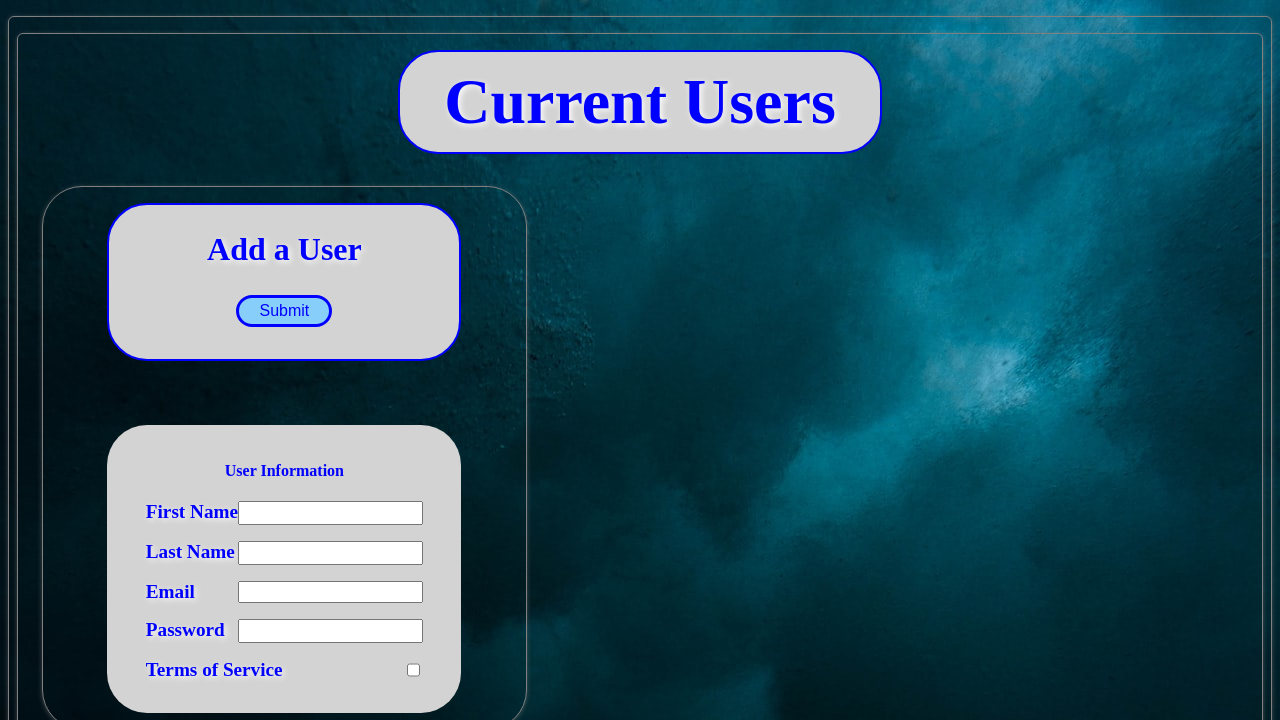
Form validation › validates first name correctly
Expected: the text "First name must be at least three characters long" is not shown
Type "a" into the field named "fName" at (331, 513), box [238,501,423,525]
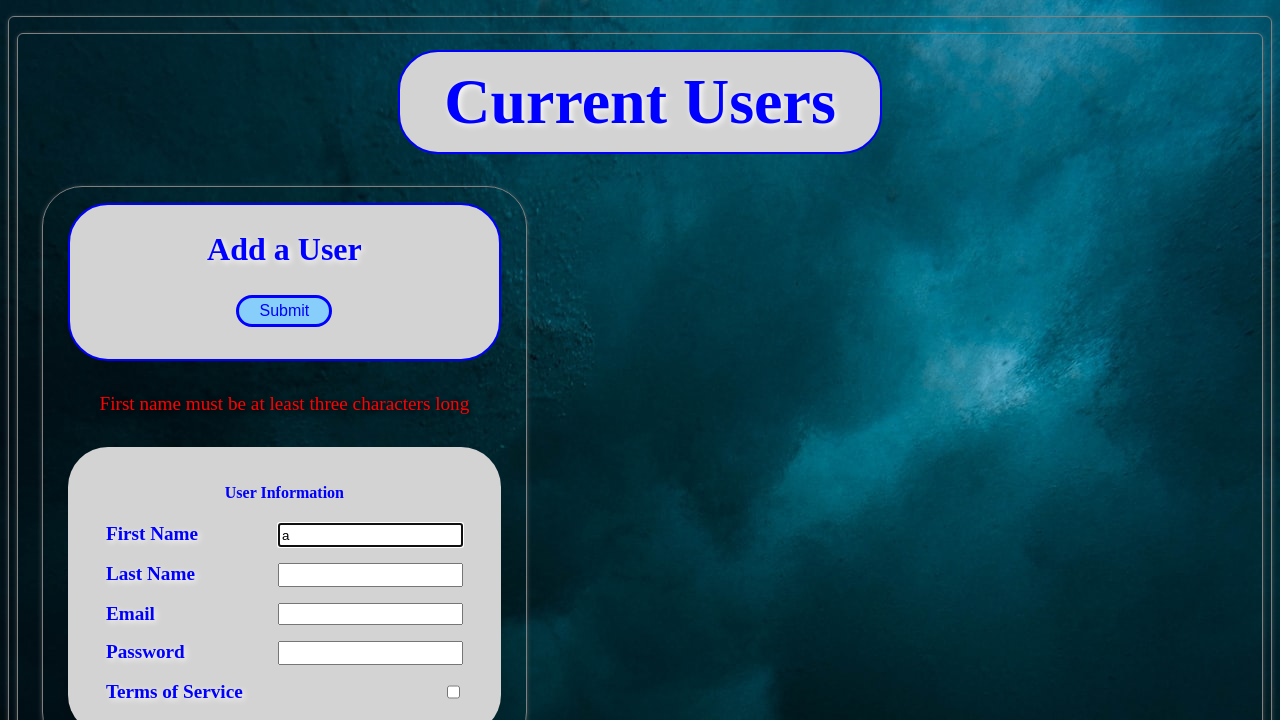
Expected: the text "First name must be at least three characters long" is shown, [100,393,469,415]
Type "b" into the field named "fName" at (371, 535), box [278,523,463,547]
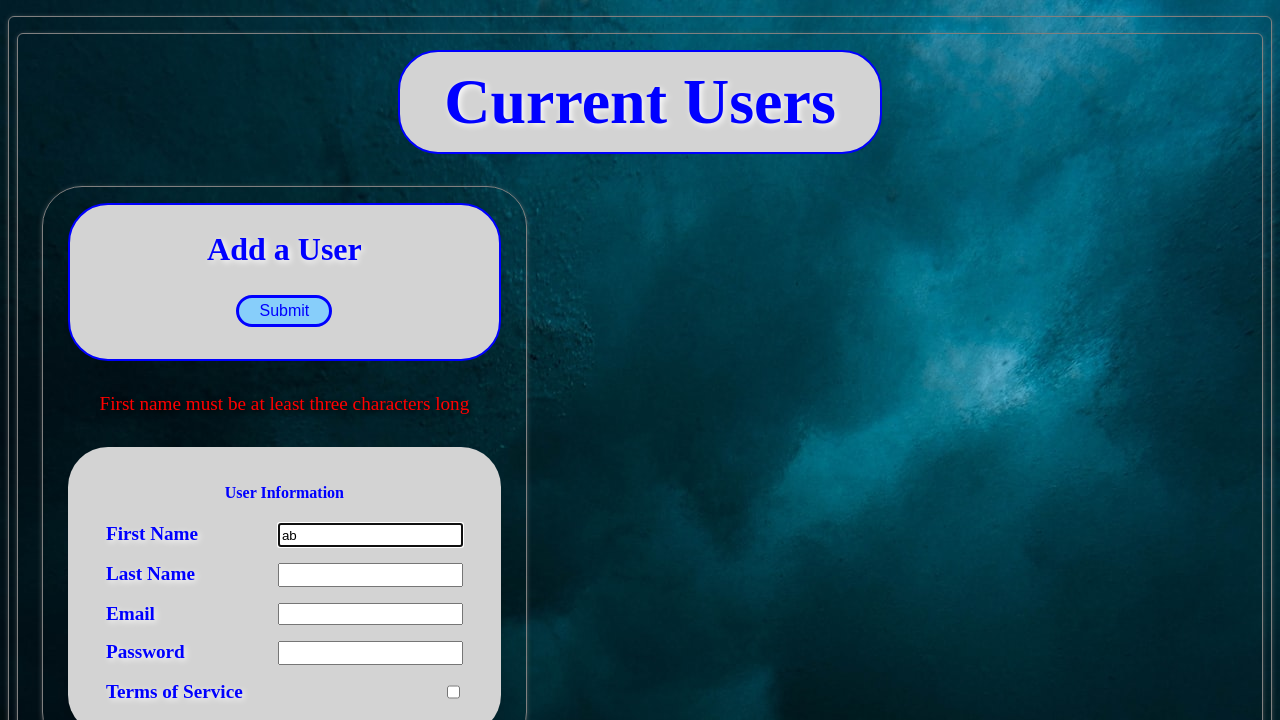
Expected: the text "First name must be at least three characters long" is shown, [100,393,469,415]
Type "c" into the field named "fName" at (371, 535), box [278,523,463,547]
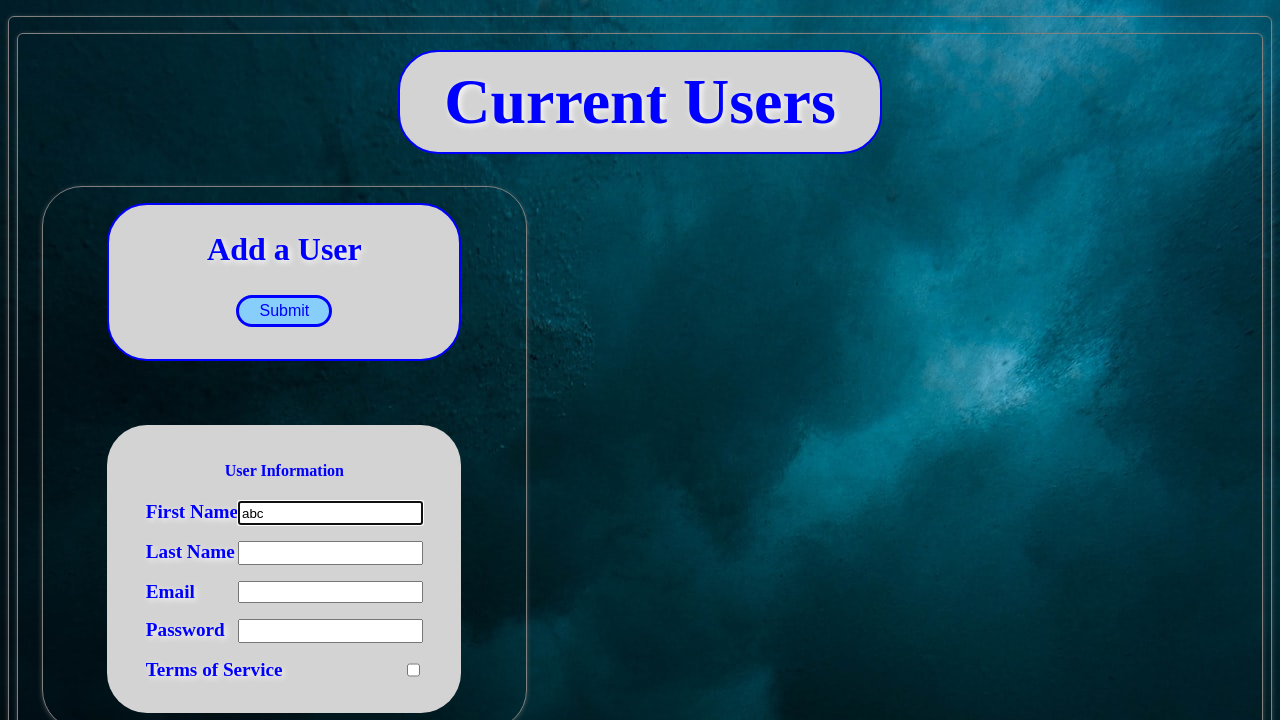
Expected: the text "First name must be at least three characters long" is gone
